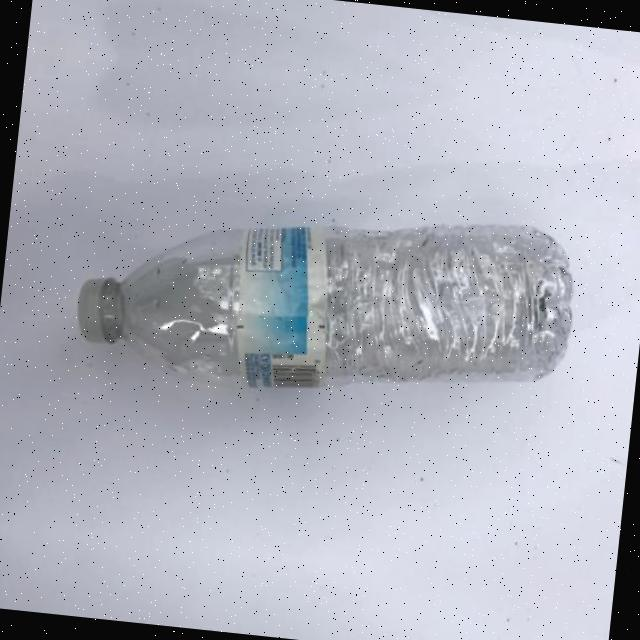Plastic: (47, 148, 608, 435)
